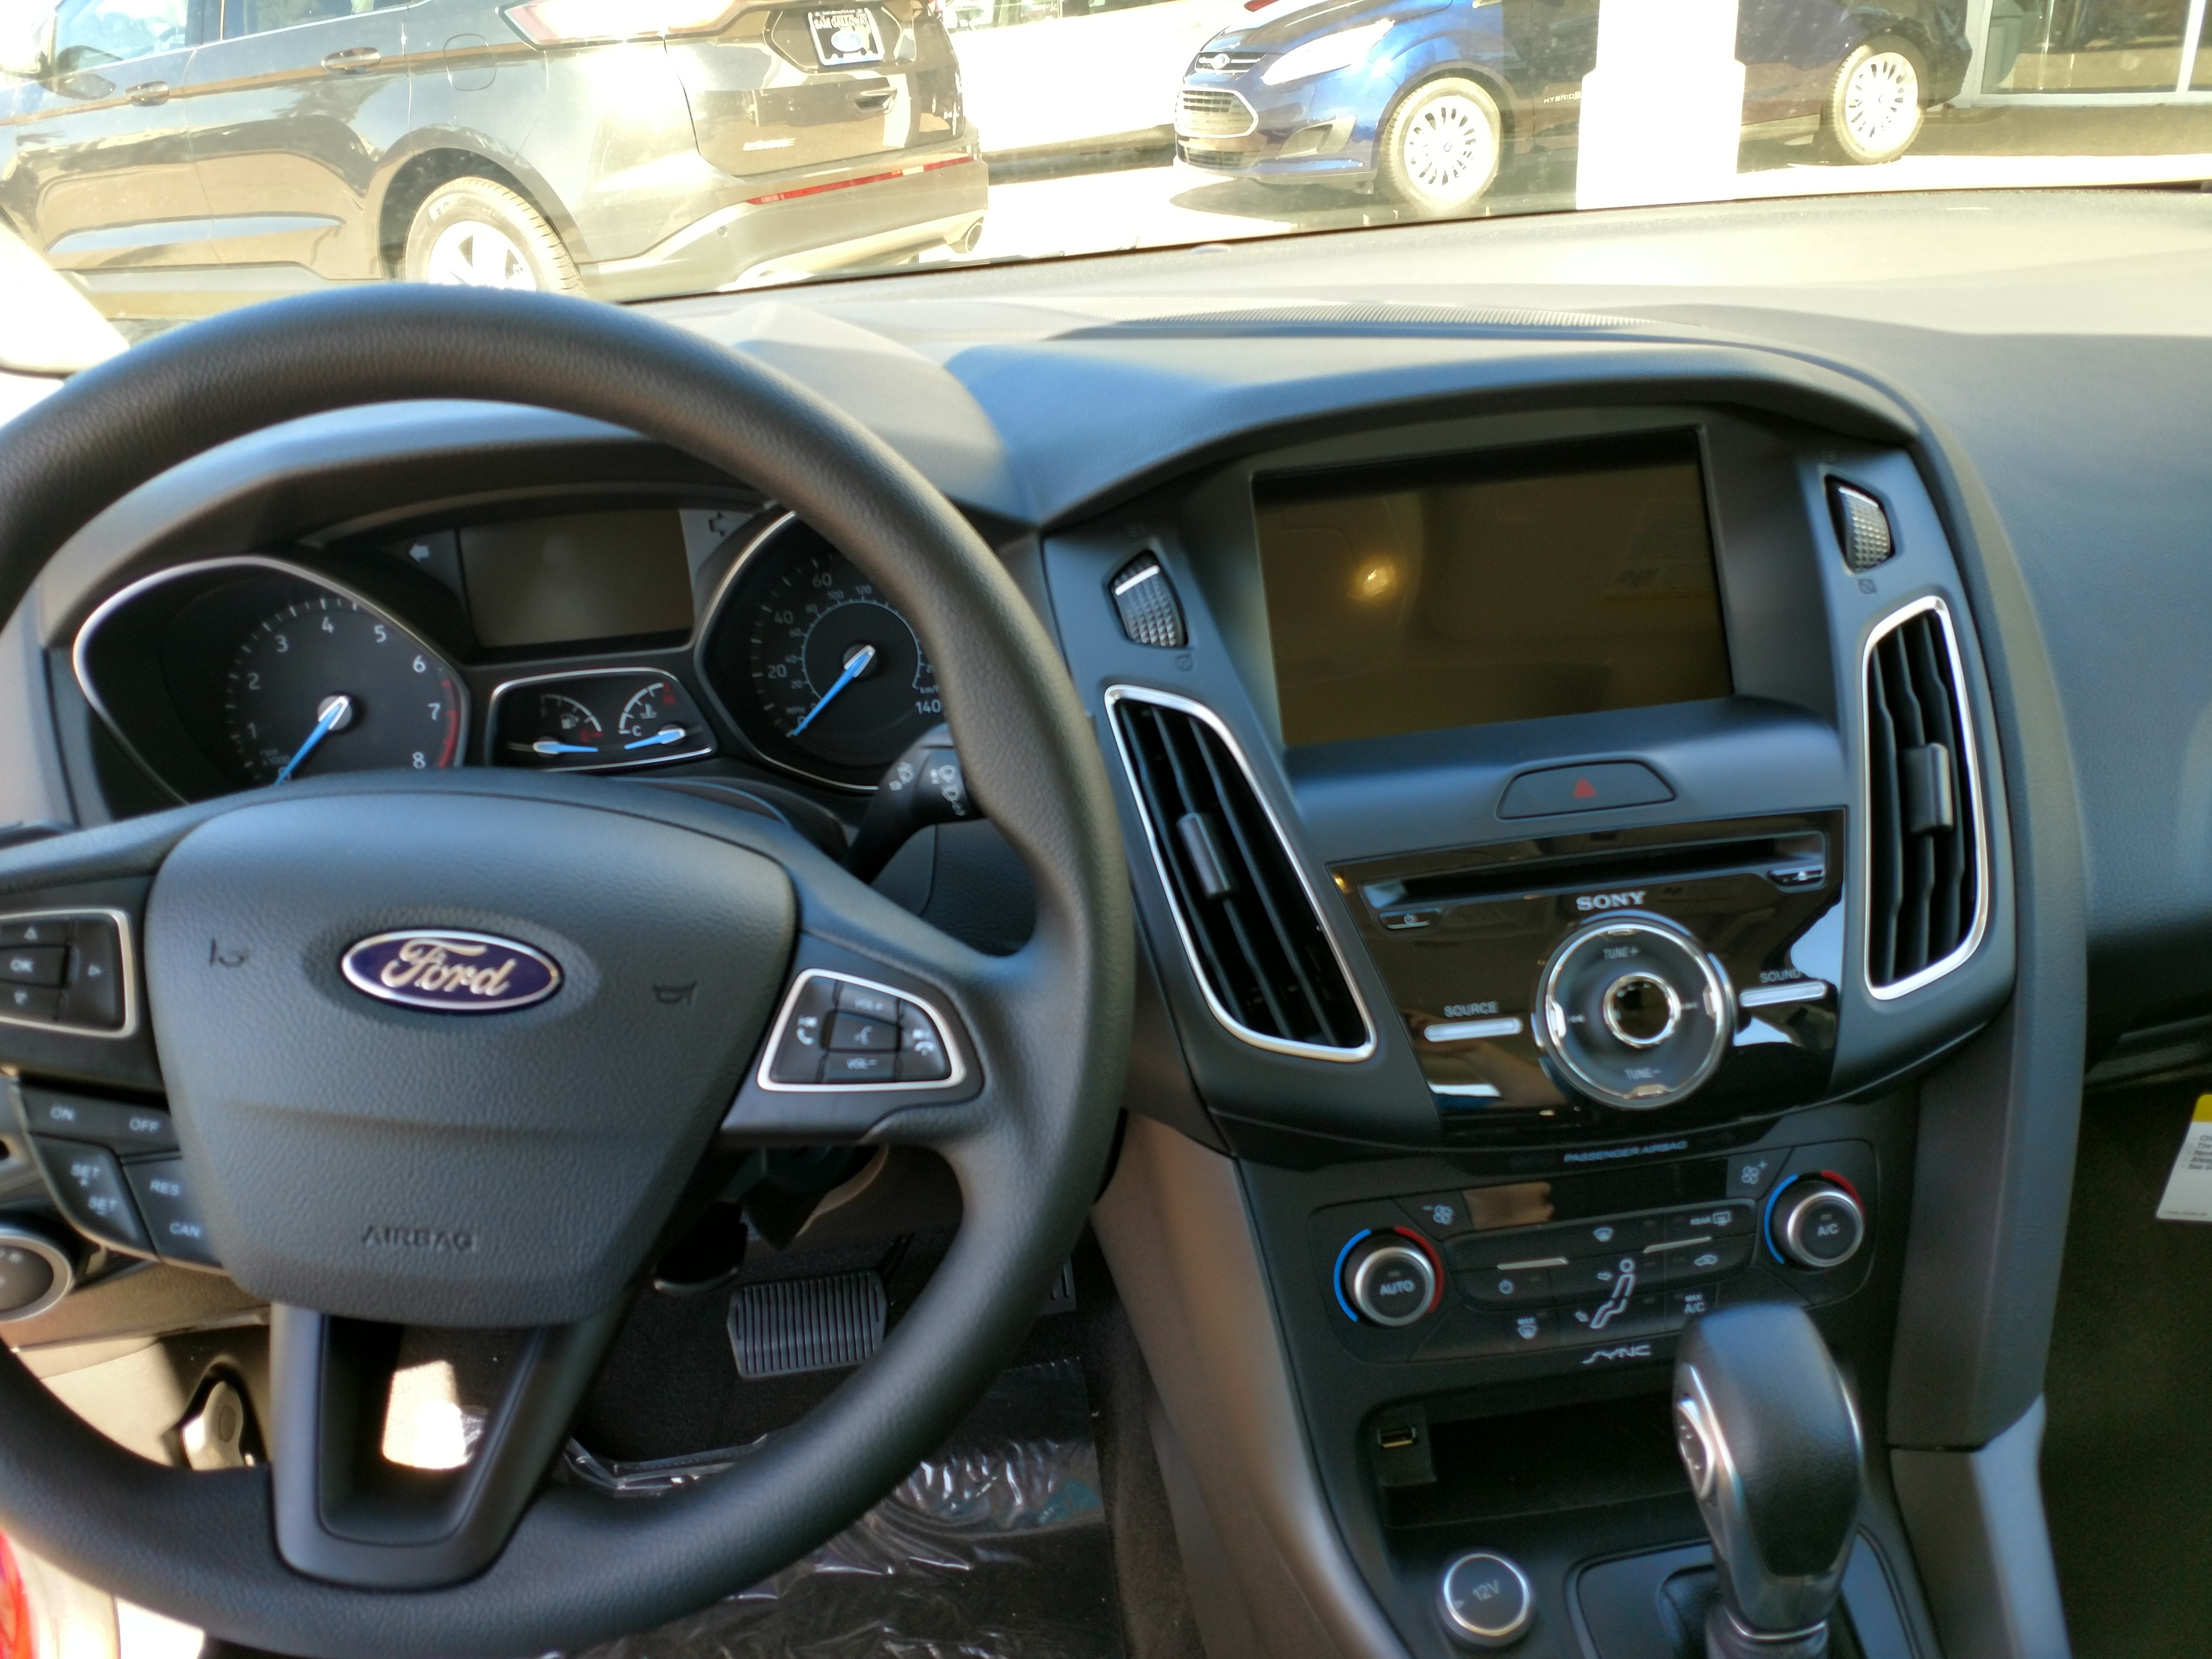Ford: (331, 918, 583, 1026)
